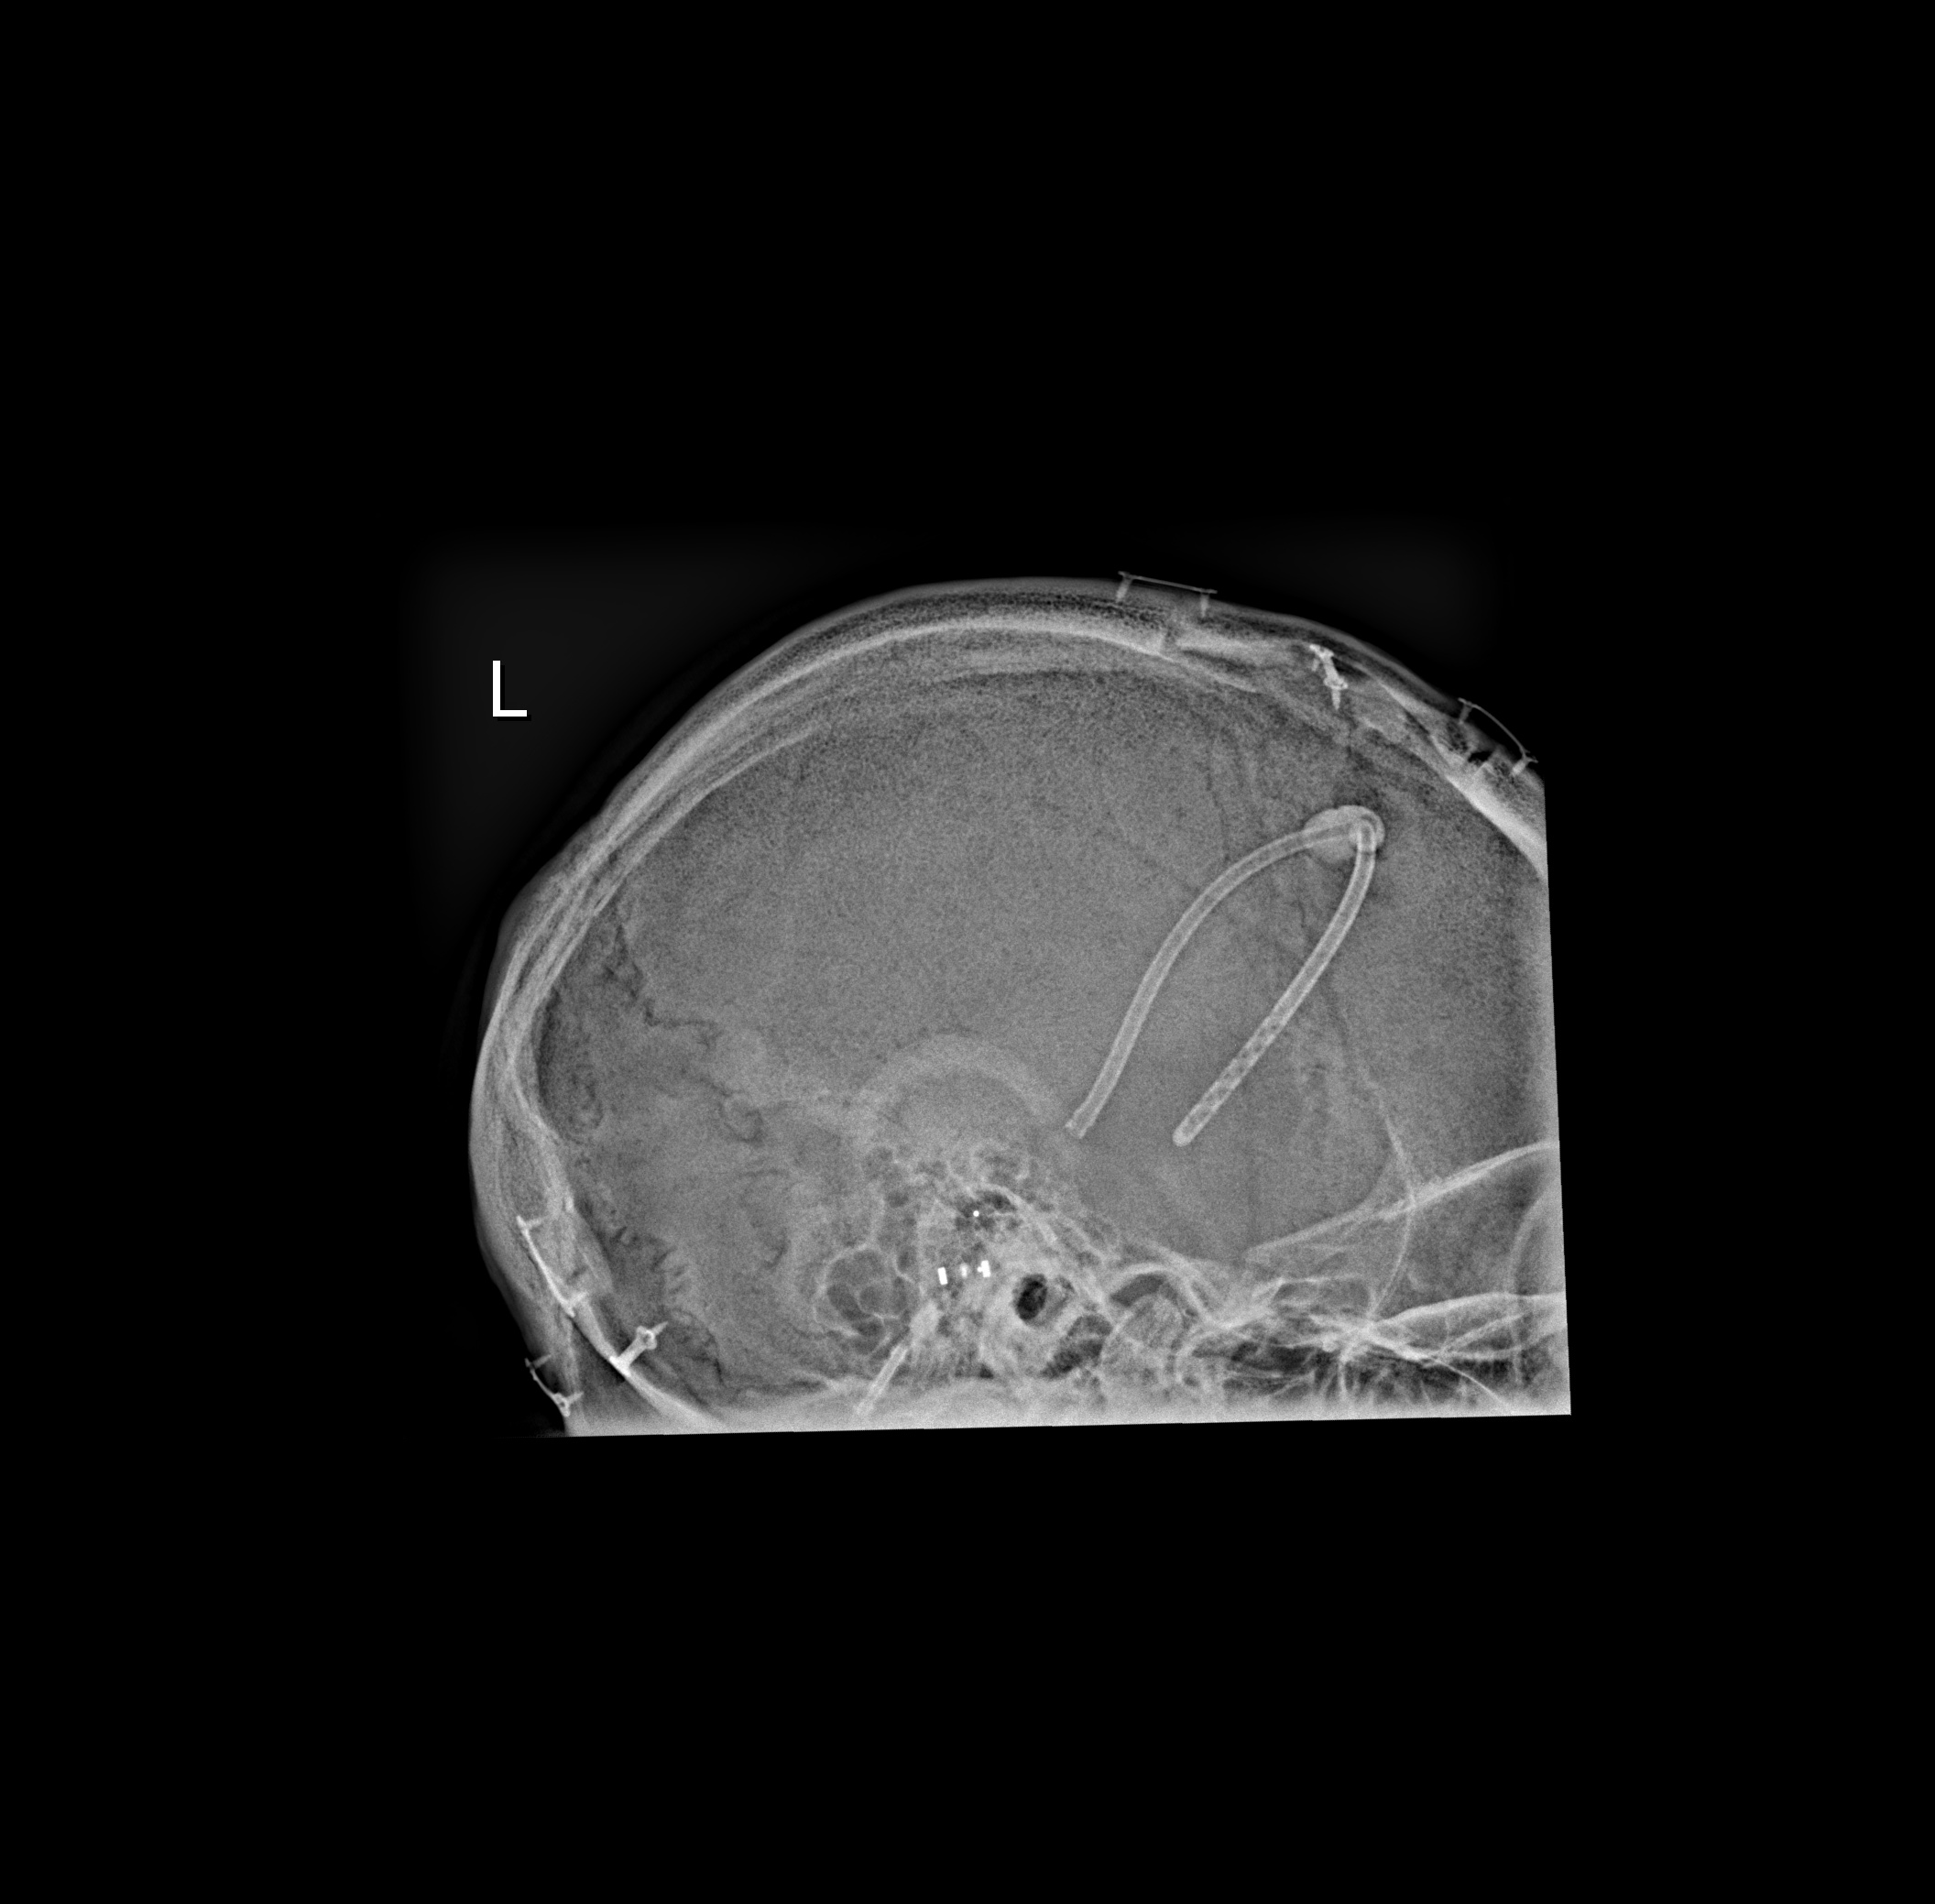Codman Certas: (908, 1194, 1023, 1327)
